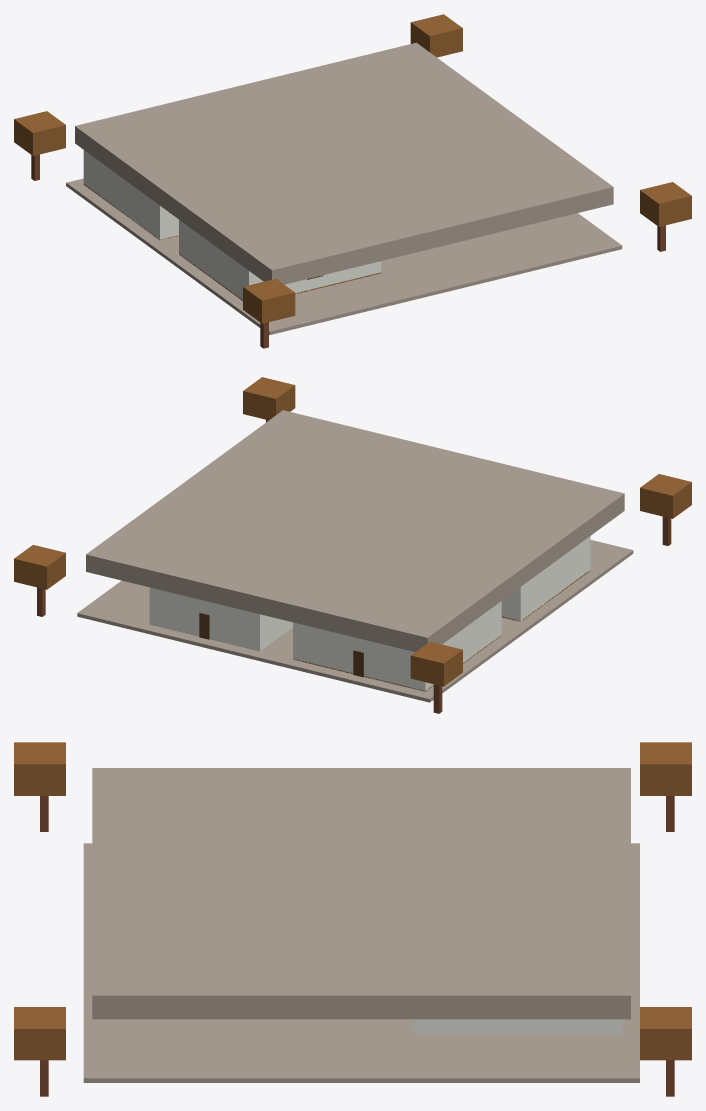
The model's file is enhanced_boq_fallback_1751743247590_0akhbwz1v.obj.
The picture shows the model from 3 angles, top to bottom: view 1: azimuth 30°, elevation 25°; view 2: azimuth 150°, elevation 25°; view 3: azimuth 270°, elevation 25°; orthographic projection. The views are drawn at different scales.
Visible parts, largest first — view 1: Roof, Foundation, Wall_Left_0, Wall_Left_2, TreeFoliage_2, TreeFoliage_0, TreeFoliage_3, TreeFoliage_1, Wall_Back_2, Wall_Back_0; view 2: Roof, Foundation, Wall_Front_0, Wall_Front_1, Wall_Left_2, TreeFoliage_0, TreeFoliage_2, TreeFoliage_1, TreeFoliage_3, Wall_Left_0, Wall_Left_1, Wall_Front_2; view 3: Roof, Foundation, Wall_Right_1, TreeFoliage_0, TreeFoliage_1, TreeFoliage_2, TreeFoliage_3.
Part boxes in pixels (box(x1,y1,x2,y2)): Roof: box(75, 42, 613, 284); Foundation: box(66, 178, 622, 334); Wall_Left_0: box(83, 150, 161, 239); Wall_Left_2: box(179, 220, 251, 299); TreeFoliage_2: box(243, 279, 295, 323); TreeFoliage_0: box(14, 111, 65, 155); TreeFoliage_3: box(640, 182, 691, 226); TreeFoliage_1: box(410, 14, 462, 57); Wall_Back_2: box(247, 261, 381, 293); Wall_Back_0: box(158, 205, 178, 239); Roof: box(86, 410, 624, 651); Foundation: box(77, 540, 633, 702); Wall_Front_0: box(293, 623, 426, 690); Wall_Front_1: box(149, 587, 260, 651); Wall_Left_2: box(518, 537, 589, 621); TreeFoliage_0: box(410, 641, 462, 686); TreeFoliage_2: box(640, 474, 691, 518); TreeFoliage_1: box(14, 545, 65, 589); TreeFoliage_3: box(243, 377, 295, 420); Wall_Left_0: box(423, 602, 501, 691); Wall_Left_1: box(259, 614, 292, 650); Wall_Front_2: box(501, 586, 521, 621); Roof: box(92, 768, 630, 1019); Foundation: box(83, 843, 639, 1082); Wall_Right_1: box(414, 1019, 621, 1034); TreeFoliage_0: box(640, 742, 691, 795); TreeFoliage_1: box(640, 1007, 691, 1060); TreeFoliage_2: box(14, 742, 65, 795); TreeFoliage_3: box(14, 1007, 65, 1060).
Bounding box in the file's own units: 39 × 5.3 × 39.
